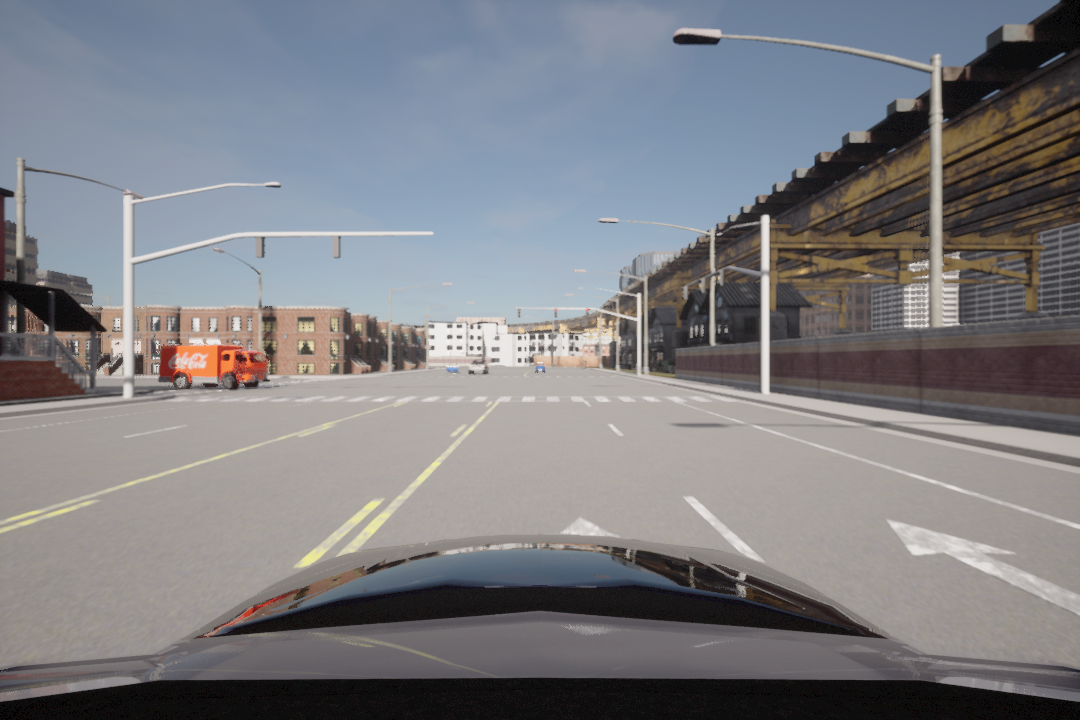RoadSign_forward: (881, 515, 1080, 629)
walkside: (175, 394, 744, 406)
